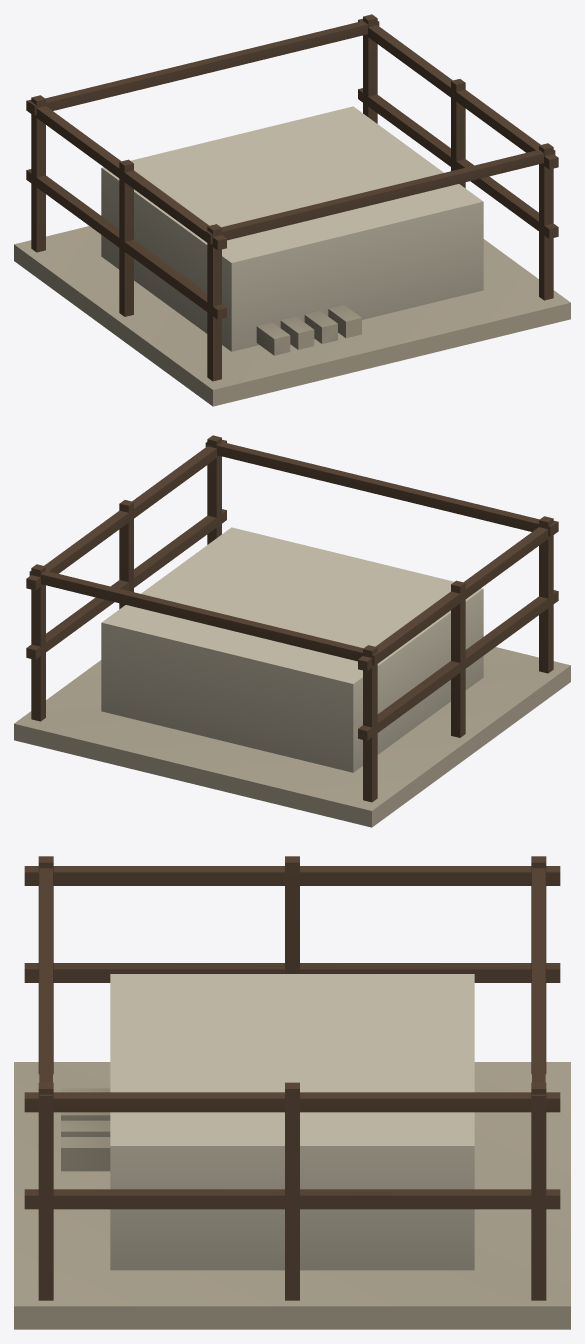
Rendered from worksite-1.glb.
The picture shows the model from 3 angles, top to bottom: view 1: azimuth 30°, elevation 25°; view 2: azimuth 150°, elevation 25°; view 3: azimuth 270°, elevation 25°; orthographic projection. The views are drawn at different scales.
Parts seen in each view (by area): view 1: Construction 1 1, Construction 1 3, Construction 1 0; view 2: Construction 1 1, Construction 1 3, Construction 1 0; view 3: Construction 1 1, Construction 1 0, Construction 1 3.
Part boxes in pixels (x1,y1,x2,y2): Construction 1 1: [101, 106, 483, 351]; Construction 1 3: [26, 14, 558, 381]; Construction 1 0: [14, 226, 570, 406]; Construction 1 1: [101, 527, 483, 772]; Construction 1 3: [26, 435, 558, 802]; Construction 1 0: [14, 647, 570, 827]; Construction 1 1: [110, 974, 474, 1270]; Construction 1 0: [14, 1062, 570, 1329]; Construction 1 3: [24, 856, 560, 1300].
Bounding box in the file's own units: 2.7 × 1.21 × 2.6.
